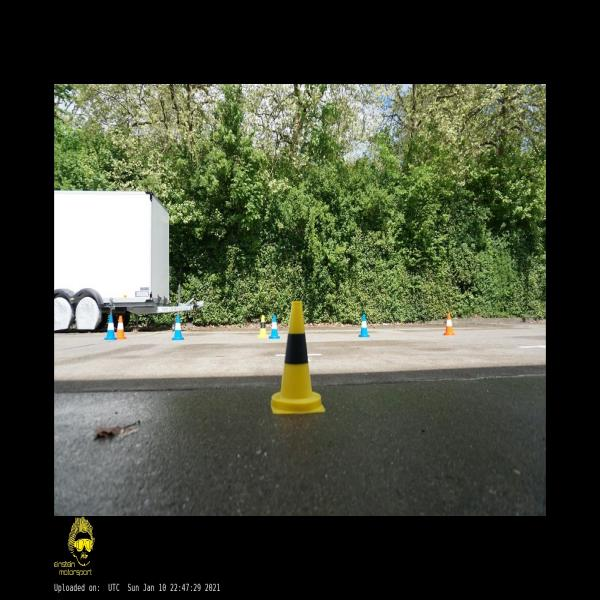blue_cone: (104, 315, 117, 340), (172, 315, 184, 340), (269, 315, 280, 338), (359, 314, 369, 336)
orange_cone: (443, 313, 455, 335), (116, 316, 126, 339)
yellow_cone: (270, 300, 326, 413), (258, 315, 268, 337)
